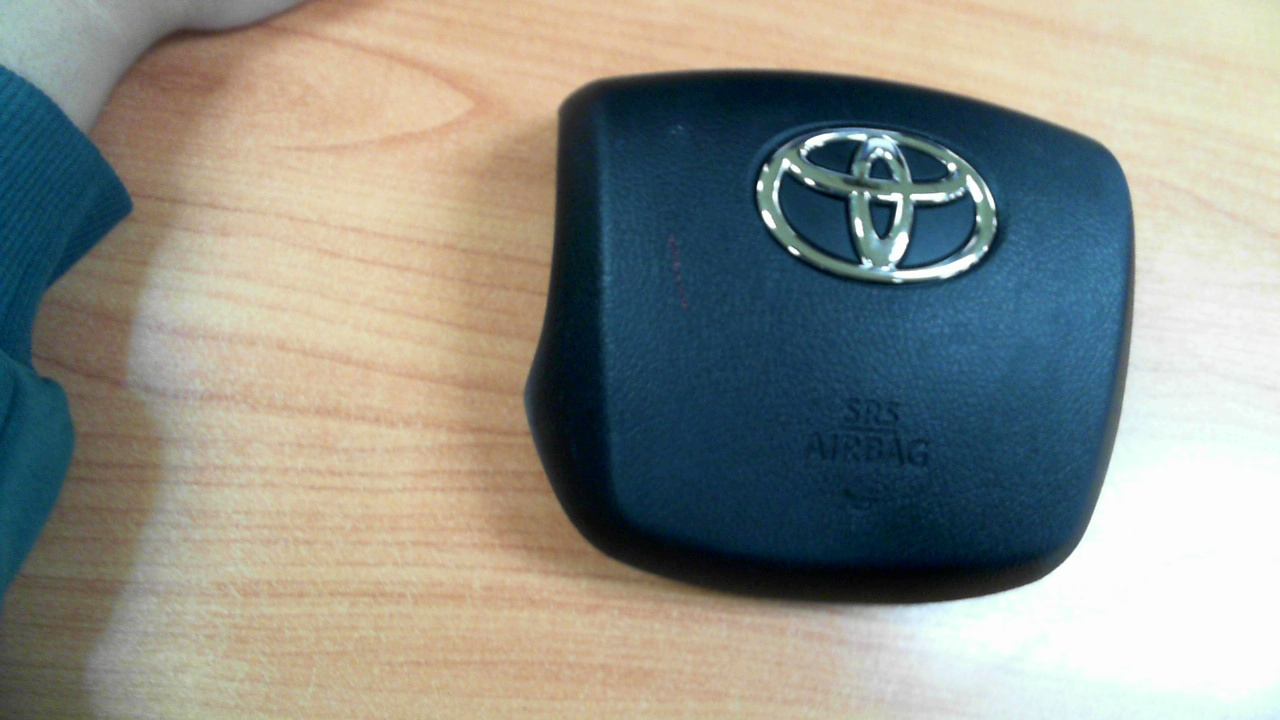Airbag: (522, 69, 1135, 608)
Toyota: (756, 126, 998, 284)
